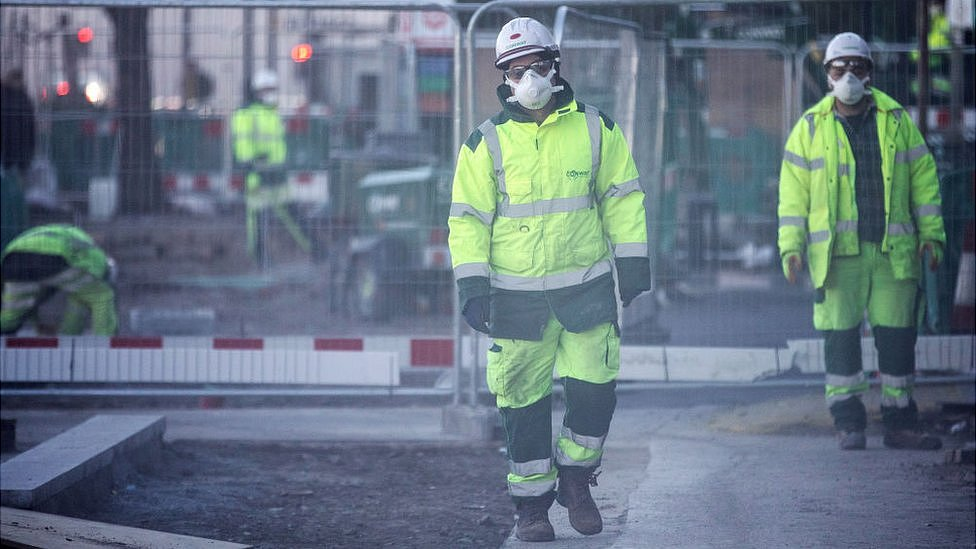Helmet: (486, 15, 565, 68), (822, 28, 879, 68)
Mask: (498, 71, 571, 113), (823, 71, 874, 105)
Safety_Jacket: (446, 98, 660, 539), (773, 83, 950, 454)
